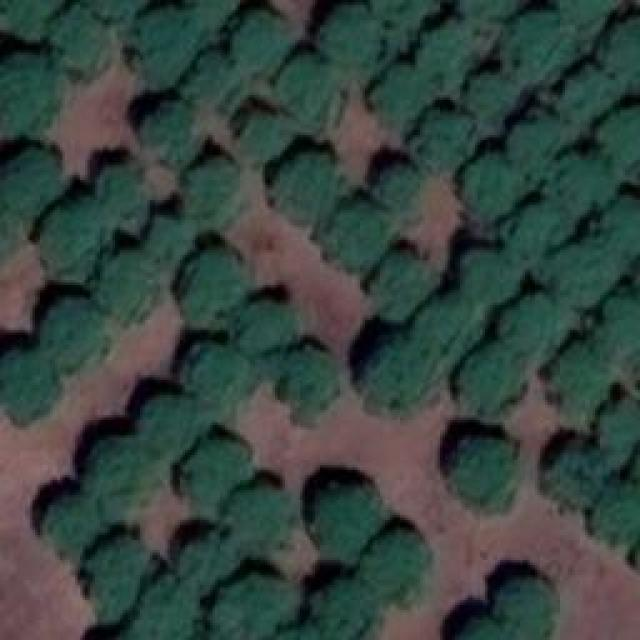Tree: (360, 335, 433, 415), (498, 10, 573, 83), (80, 435, 148, 510), (135, 5, 198, 83), (315, 483, 380, 558), (212, 577, 289, 640), (40, 198, 103, 271), (273, 55, 336, 128), (450, 435, 515, 505), (182, 250, 240, 328), (225, 480, 288, 550), (325, 193, 385, 266), (47, 8, 105, 83), (280, 343, 338, 418), (508, 292, 571, 360), (180, 155, 240, 225), (310, 577, 375, 640), (550, 152, 610, 220), (322, 5, 380, 75), (0, 348, 58, 418), (278, 153, 333, 226), (135, 100, 198, 163), (180, 440, 243, 503), (45, 297, 103, 365), (462, 345, 520, 413), (550, 437, 608, 505), (0, 57, 50, 135), (183, 345, 248, 405), (365, 528, 425, 593), (548, 245, 613, 305), (88, 538, 143, 608), (95, 253, 153, 318), (468, 155, 523, 223), (550, 347, 605, 415), (418, 113, 478, 173), (495, 578, 555, 638), (0, 147, 52, 214), (550, 67, 610, 125), (367, 253, 425, 313), (368, 65, 423, 128), (230, 12, 285, 70), (417, 20, 465, 85), (43, 495, 96, 553), (140, 395, 195, 450), (423, 295, 473, 355), (508, 205, 561, 260), (463, 250, 513, 308), (465, 70, 513, 130), (592, 485, 640, 545), (373, 158, 418, 221), (595, 300, 640, 363), (190, 50, 238, 108), (178, 533, 228, 588), (148, 578, 193, 638), (98, 162, 143, 220), (145, 215, 193, 268), (513, 115, 558, 170), (595, 200, 640, 255), (370, 0, 430, 40), (600, 18, 640, 78), (240, 303, 293, 348), (600, 108, 640, 163), (238, 112, 283, 160), (0, 0, 60, 35), (600, 400, 640, 448), (557, 0, 615, 30), (462, 0, 520, 25), (447, 620, 515, 640), (190, 0, 235, 22)
